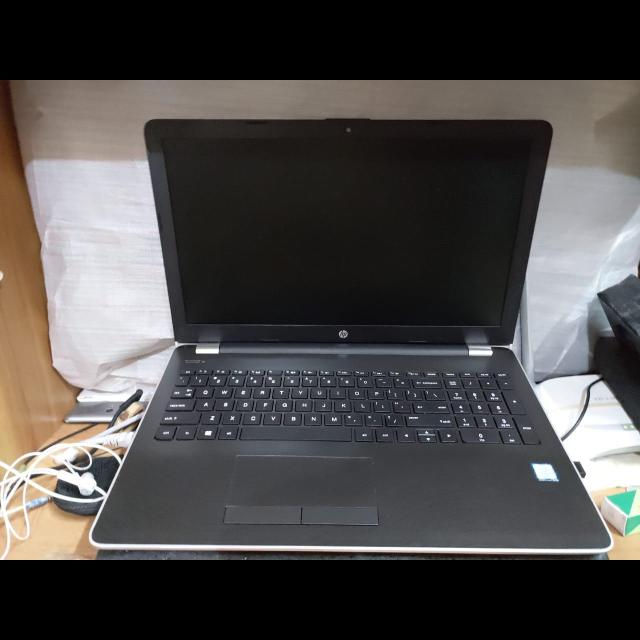Laptop: (81, 111, 625, 558)
